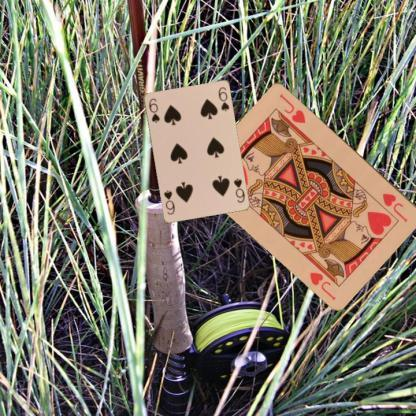6s: (146, 95, 161, 124), (232, 176, 246, 204)
Jh: (380, 190, 410, 224)
